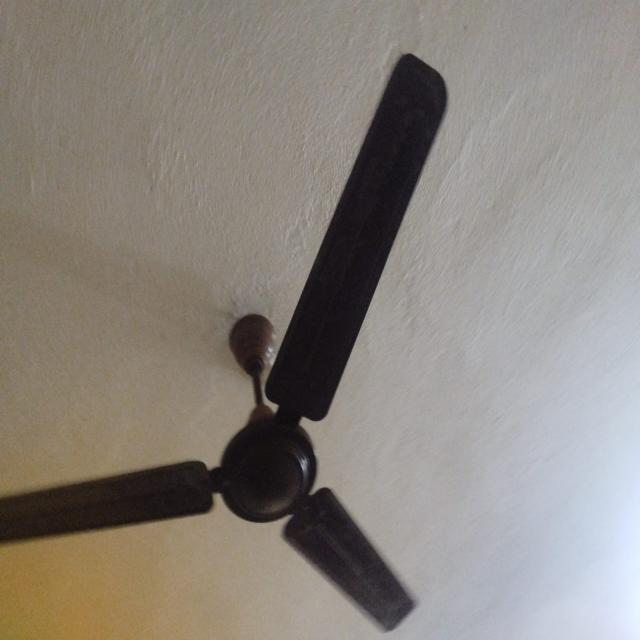fan_off: (0, 53, 449, 628)
